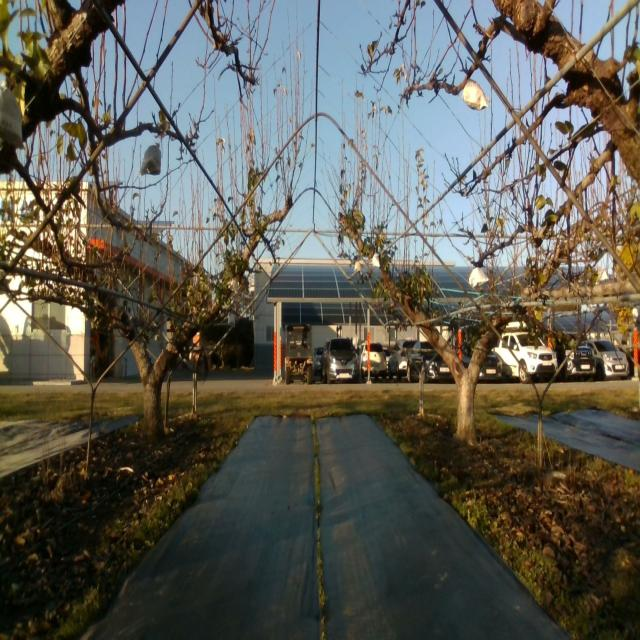pearbags: (0, 84, 23, 140), (461, 77, 489, 111), (138, 142, 162, 176), (469, 267, 489, 289)
